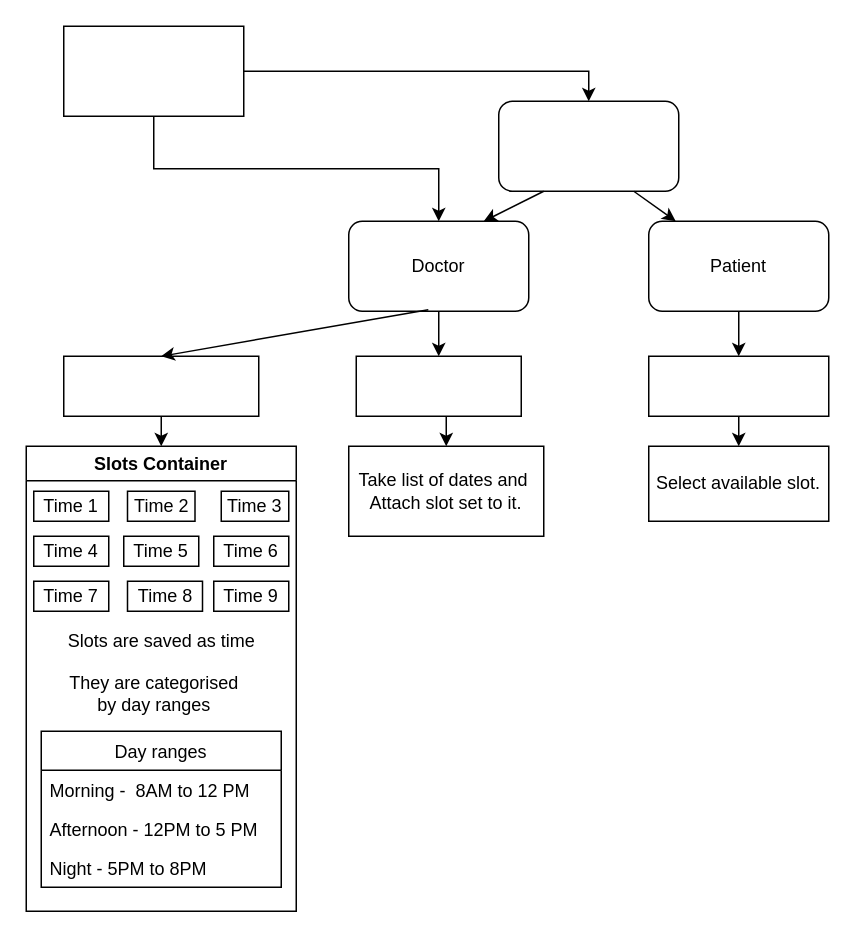
This 855x938 diagram has some shape labels left out. Each missing label, with the centre of its shape:
"Add slot set" belongs at point (160, 385).
"Admin" belongs at point (153, 70).
"Appointment" belongs at point (588, 145).
"Choose dates" belongs at point (738, 385).
"Repeat Slots" belongs at point (438, 385).
